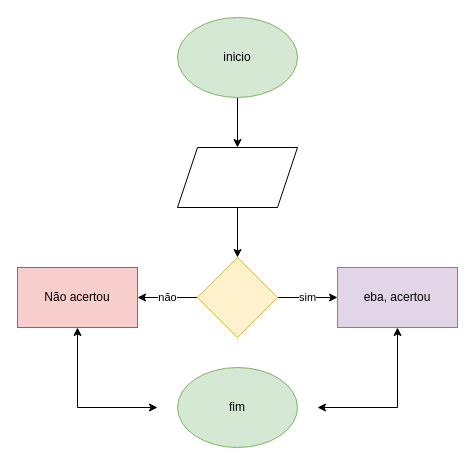
This 475x465 diagram has some shape labels left out. The box of each missing label's shape, as (x1, y1, x2, y2) in pixels:
numero: (176, 146, 298, 208)
numero >=10: (196, 256, 278, 338)
